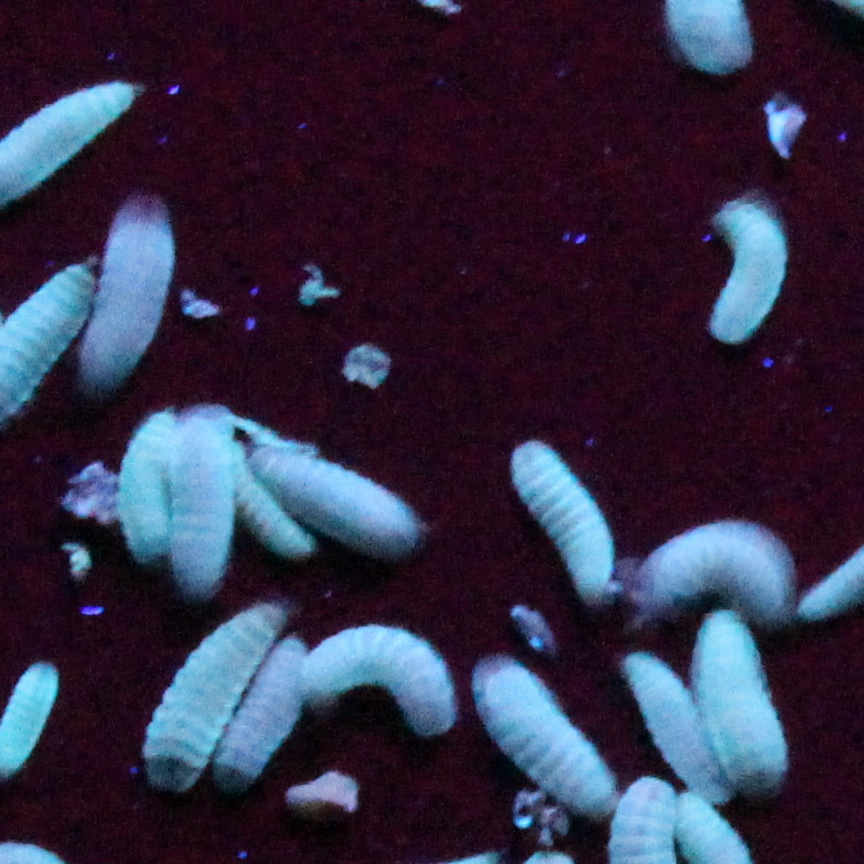larve: (146, 602, 292, 787), (463, 646, 618, 812), (498, 426, 618, 615), (623, 509, 792, 632), (252, 435, 429, 552), (303, 629, 455, 749), (701, 612, 792, 792), (106, 198, 178, 398), (217, 642, 308, 787), (175, 398, 238, 598), (618, 644, 703, 784), (719, 204, 786, 350), (121, 404, 169, 564)
